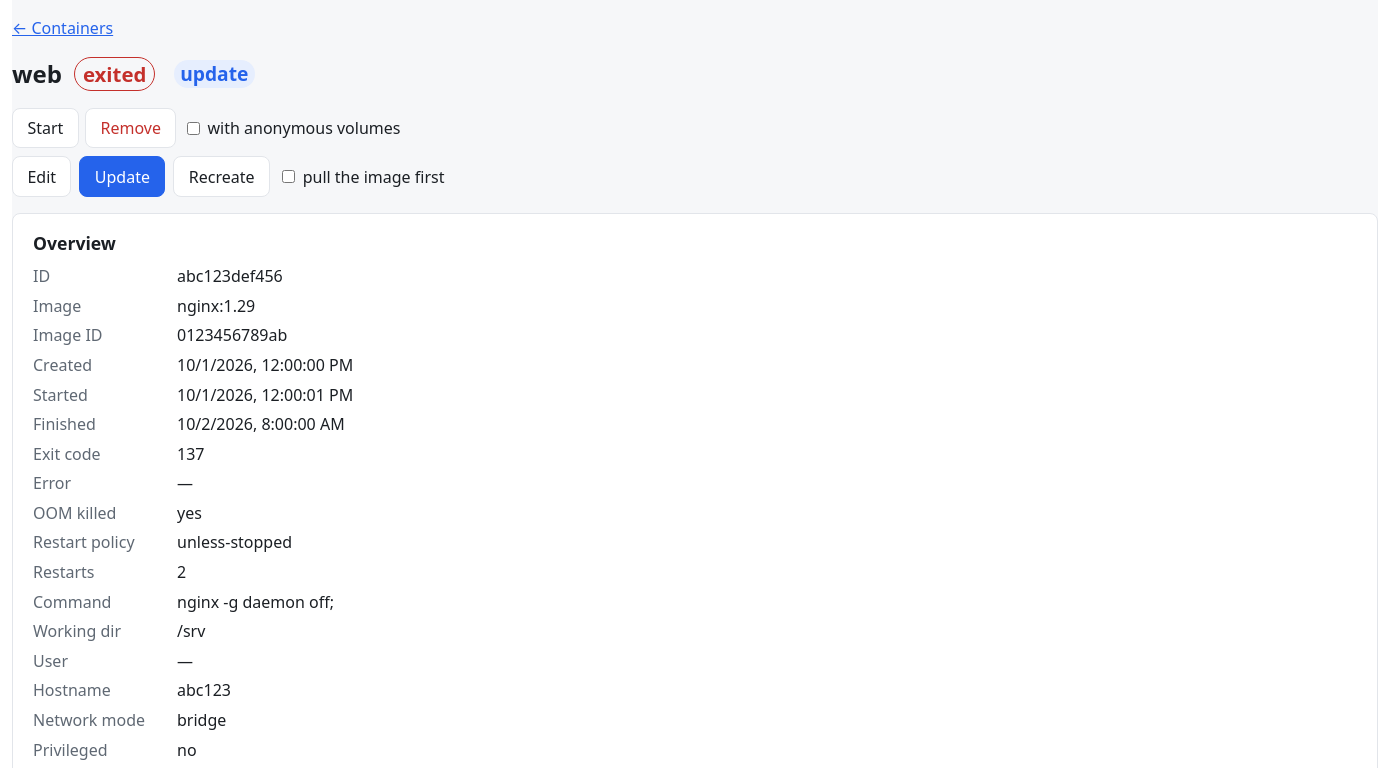
Test: ContainerView › says so when the registry had nothing newer
The image size is (1378, 768).
What coordinates should you click on to do the following:
click the button "Update"
I would click on:
 (122, 177)
Its box is [79,156,165,197].
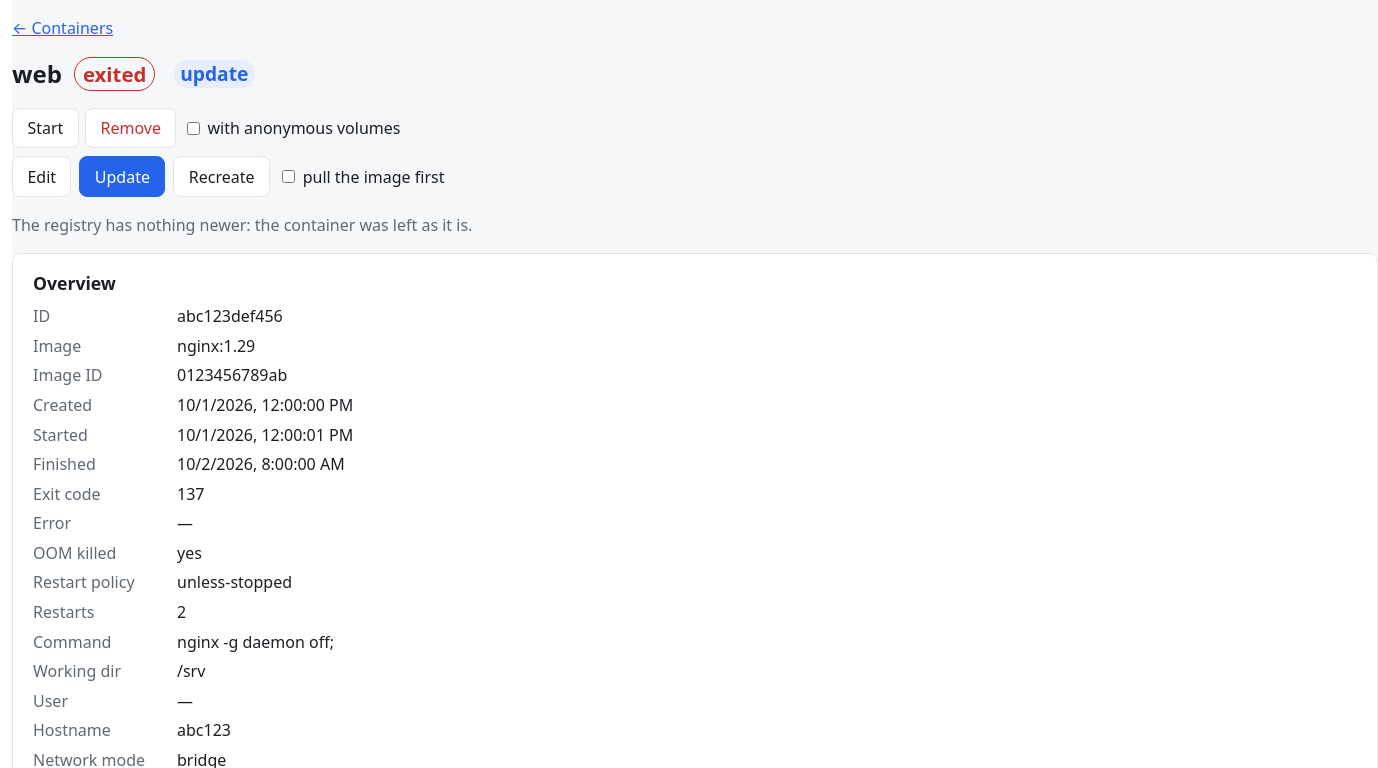
Expected: the message "The registry has nothing newer: the container was left as it is." is shown, [12,214,472,236]
